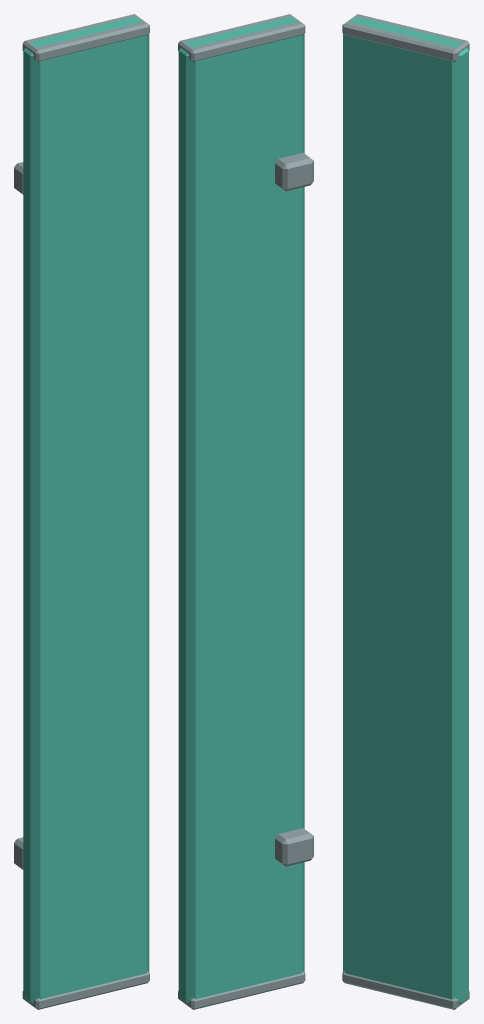
Rendered from Structure-StallFrontPanel.fbx.
3 renders of one model, left to right at view 1: azimuth 30°, elevation 25°; view 2: azimuth 210°, elevation 25°; view 3: azimuth 330°, elevation 25°, orthographic.
Visible parts, largest first — view 1: Laminate Panel, Edge Cap.001, Edge Cap; view 2: Laminate Panel, Edge Cap.001, Edge Cap, Mounting Bracket.001, Mounting Bracket; view 3: Laminate Panel, Edge Cap.001, Edge Cap.
Part boxes in pixels (left/top/right/bottom): Laminate Panel: left=23, top=16, right=149, bottom=1003; Edge Cap.001: left=22, top=14, right=149, bottom=61; Edge Cap: left=22, top=971, right=149, bottom=1009; Laminate Panel: left=178, top=16, right=304, bottom=1003; Edge Cap.001: left=178, top=14, right=305, bottom=61; Edge Cap: left=178, top=971, right=305, bottom=1009; Mounting Bracket.001: left=275, top=152, right=313, bottom=191; Mounting Bracket: left=275, top=827, right=313, bottom=866; Laminate Panel: left=343, top=16, right=468, bottom=1003; Edge Cap.001: left=342, top=14, right=469, bottom=61; Edge Cap: left=342, top=971, right=469, bottom=1009.
Bounding box in the file's own units: 0.21 × 1.62 × 0.0745.
